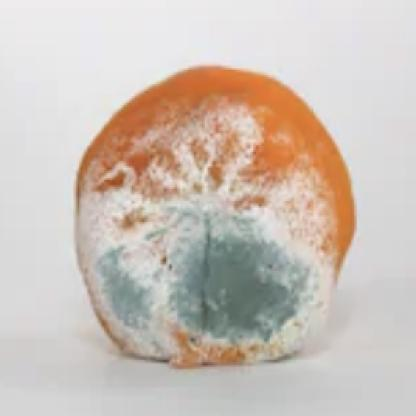rotten: (74, 64, 354, 375)
